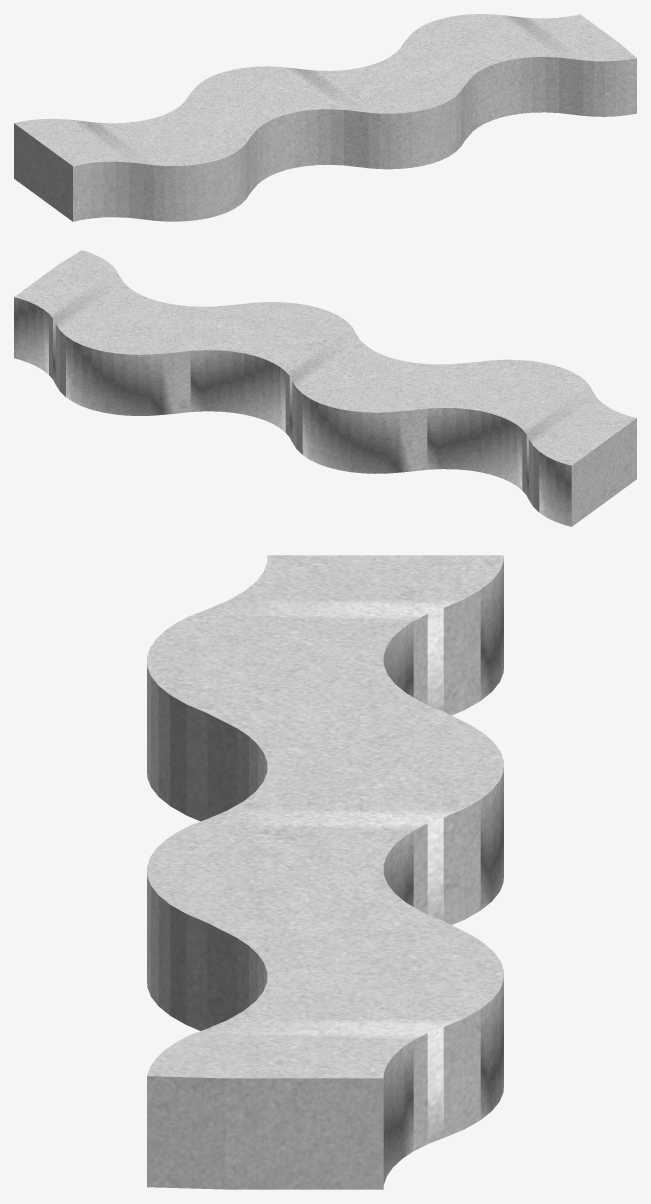
The model's file is Beauth.fbx.
3 views of the same model, one above another, from view 1: azimuth 30°, elevation 25°; view 2: azimuth 150°, elevation 25°; view 3: azimuth 270°, elevation 25° (orthographic). The views are drawn at different scales.
Visible parts, largest first — view 1: sand; view 2: sand; view 3: sand.
Boxes of the visible parts, x1,y1,x2,y2 form: sand: (14,14,636,221); sand: (14,250,636,526); sand: (147,555,503,1189).
Size of the model in its own units: 1006 by 99.88 by 290.
